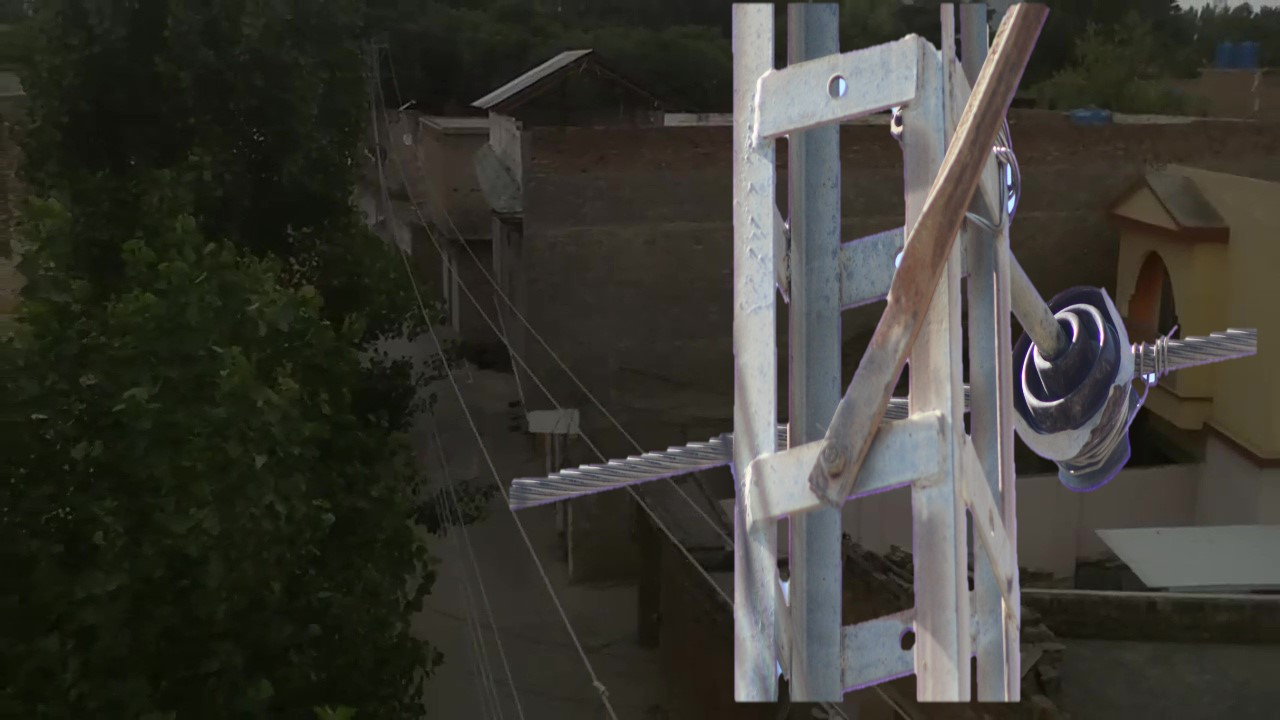defect_pin: (1008, 275, 1149, 506)
